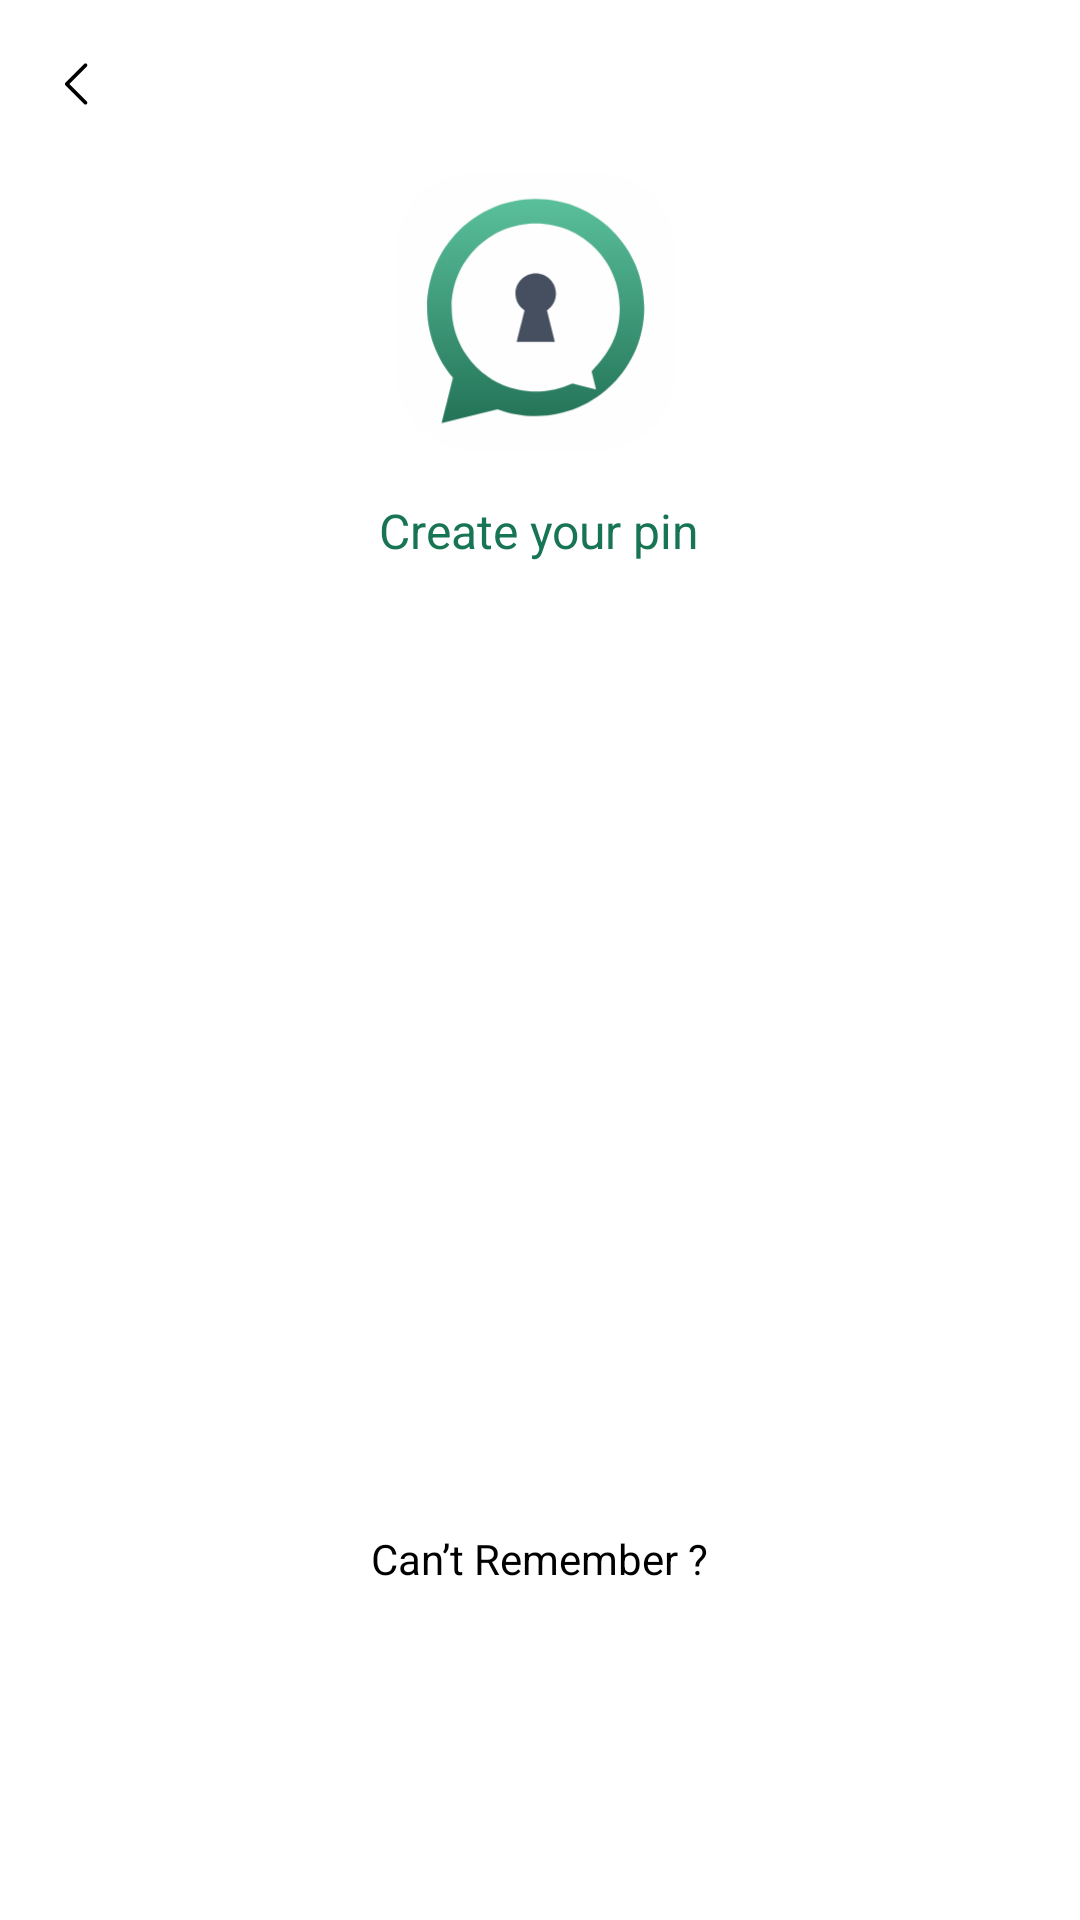

Point at icon controls on the screen. Image size 1080px x 1920px, points as point (x, y).
back: point (76, 84)
